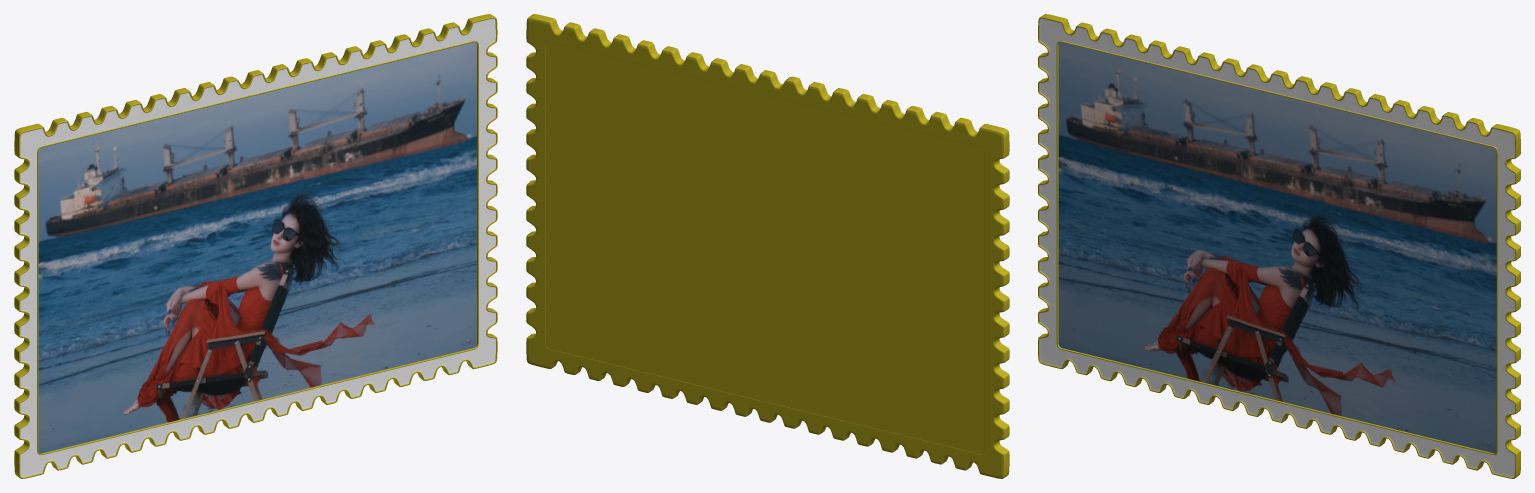
Rendered from BingxXangTie1.glb.
3 renders of one model, left to right at view 1: azimuth 30°, elevation 25°; view 2: azimuth 150°, elevation 25°; view 3: azimuth 330°, elevation 25°, orthographic.
Parts seen in each view (by area): view 1: TuHua, BianKuang; view 2: BianKuang; view 3: TuHua, BianKuang.
Part boxes in pixels (x1=…): TuHua: x1=38, y1=42, x2=476, y2=453; BianKuang: x1=14, y1=14, x2=497, y2=478; BianKuang: x1=526, y1=14, x2=1009, y2=478; TuHua: x1=1058, y1=42, x2=1496, y2=453; BianKuang: x1=1038, y1=14, x2=1520, y2=478.
Size of the model in its own units: 0.2162 by 0.1502 by 0.00411.
Materials: 3 (1 with a texture image).
